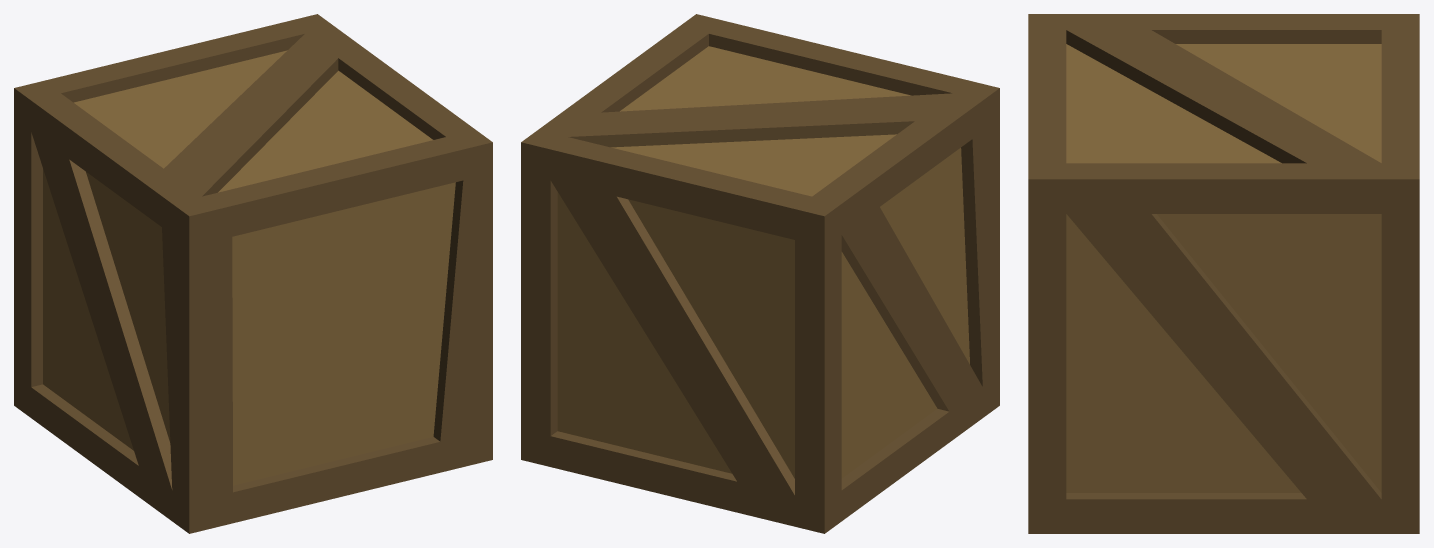
The model's file is Crate.fbx.
3 renders of one model, left to right at view 1: azimuth 30°, elevation 25°; view 2: azimuth 150°, elevation 25°; view 3: azimuth 270°, elevation 25°, orthographic. The views are drawn at different scales.
Parts seen in each view (by area): view 1: pCube6; view 2: pCube6; view 3: pCube6.
Boxes of the visible parts, bbox=[...] form: pCube6: bbox=[14, 14, 492, 533]; pCube6: bbox=[521, 14, 999, 533]; pCube6: bbox=[1028, 14, 1419, 533].
Size of the model in its own units: 0.0154 by 0.0154 by 0.0154.
